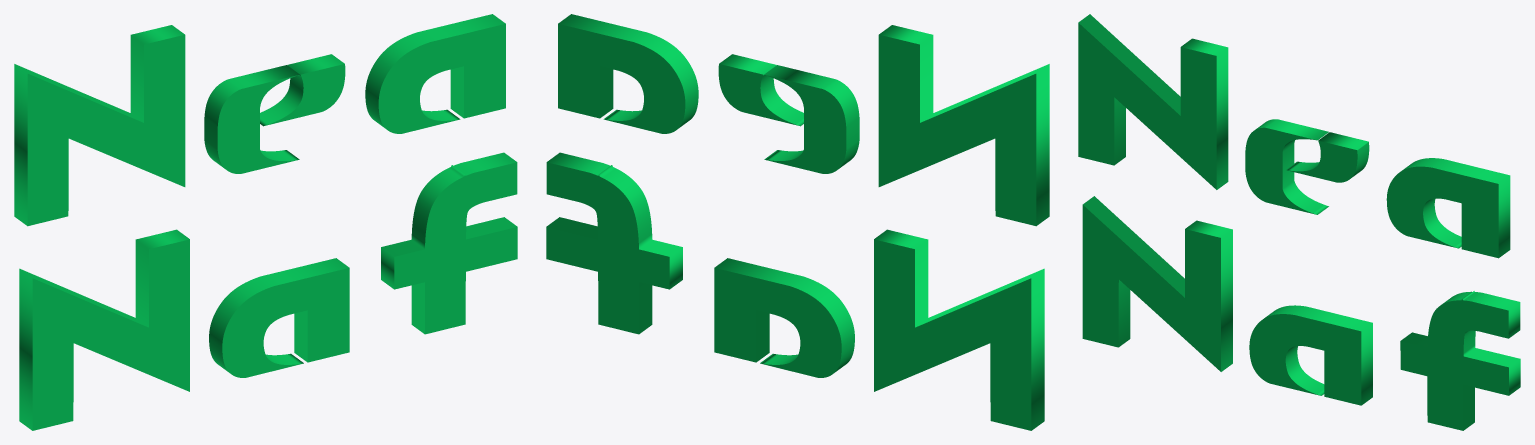
Rendered from thenaf-text.fbx.
3 views of the same model, side by side, from view 1: azimuth 30°, elevation 25°; view 2: azimuth 150°, elevation 25°; view 3: azimuth 330°, elevation 25° (orthographic). The views are drawn at different scales.
Parts seen in each view (by area): view 1: Text; view 2: Text; view 3: Text.
Boxes of the visible parts, <box> form: Text: <box>14,14,517,430</box>; Text: <box>546,14,1049,430</box>; Text: <box>1078,14,1520,430</box>.
Size of the model in its own units: 1.74 by 1.22 by 0.082.
